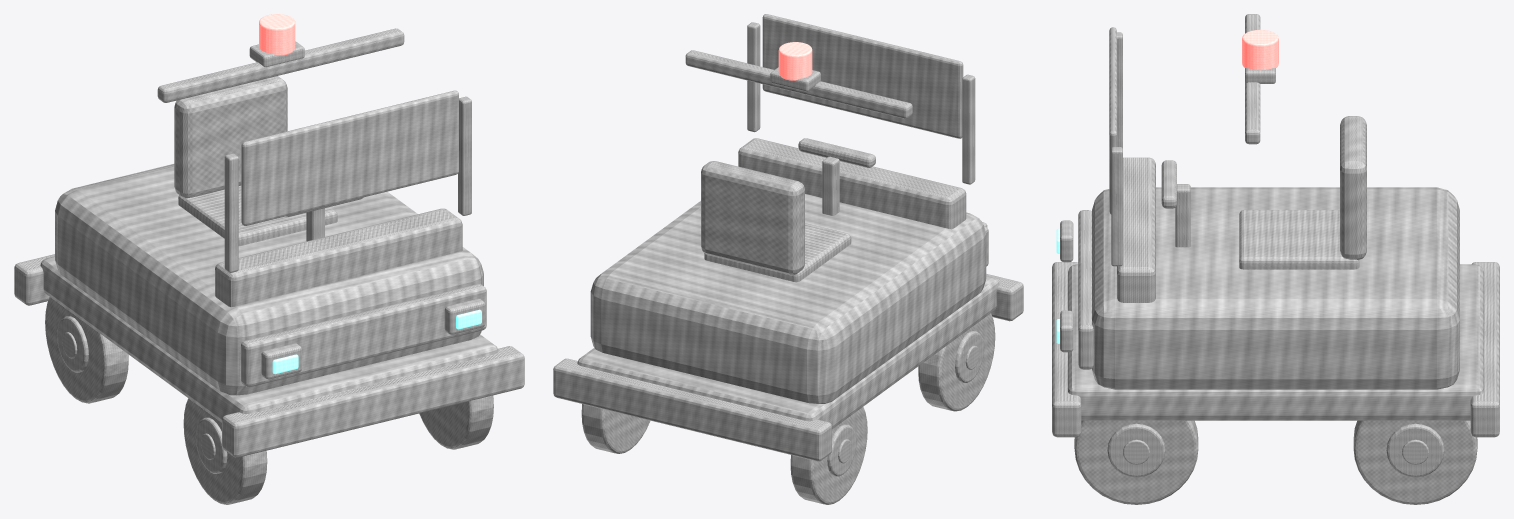
Rendered from factory_cart_variant_b.glb.
3 views of the same model, side by side, from view 1: azimuth 30°, elevation 25°; view 2: azimuth 150°, elevation 25°; view 3: azimuth 270°, elevation 25° (orthographic). The views are drawn at different scales.
Parts seen in each view (by area): view 1: Gold cart body, Folded windshield.001, Front bumper.001, Gold dashboard, Lower chassis.001, Gold front fascia, Driver seat back.001, Roof support crossbar.001, Grip wheel.005, Grip wheel.004, Driver seat base.001, Grip wheel.006 (+10 smaller); view 2: Gold cart body, Folded windshield.001, Rear bumper.001, Driver seat back.001, Lower chassis.001, Gold dashboard, Grip wheel.004, Roof support crossbar.001, Grip wheel.005, Grip wheel.007, Driver seat base.001, Windshield support.002 (+8 smaller); view 3: Gold cart body, Lower chassis.001, Grip wheel.006, Grip wheel.007, Driver seat base.001, Gold dashboard, Driver seat back.001, Rear bumper.001, Front bumper.001, Gold front fascia, Wheel hub.006, Wheel hub.007 (+11 smaller).
Part boxes in pixels (<box>): Gold cart body: <box>55,164,483,395</box>; Folded windshield.001: <box>241,90,458,225</box>; Front bumper.001: <box>222,346,524,457</box>; Gold dashboard: <box>215,208,462,306</box>; Lower chassis.001: <box>40,256,498,422</box>; Gold front fascia: <box>241,284,486,387</box>; Driver seat back.001: <box>174,76,287,198</box>; Roof support crossbar.001: <box>157,28,404,102</box>; Grip wheel.005: <box>45,297,128,403</box>; Grip wheel.004: <box>183,398,267,504</box>; Driver seat base.001: <box>178,185,337,246</box>; Grip wheel.006: <box>419,395,493,449</box>; Gold cart body: <box>590,194,986,403</box>; Folded windshield.001: <box>762,14,963,138</box>; Rear bumper.001: <box>553,358,831,461</box>; Driver seat back.001: <box>701,161,804,274</box>; Lower chassis.001: <box>577,275,999,428</box>; Gold dashboard: <box>738,138,966,229</box>; Grip wheel.004: <box>918,313,995,411</box>; Roof support crossbar.001: <box>685,50,912,118</box>; Grip wheel.005: <box>790,407,867,504</box>; Grip wheel.007: <box>581,404,650,453</box>; Driver seat base.001: <box>704,223,851,282</box>; Windshield support.002: <box>962,74,975,184</box>; Gold cart body: <box>1092,187,1459,389</box>; Lower chassis.001: <box>1068,264,1483,420</box>; Grip wheel.006: <box>1074,420,1198,504</box>; Grip wheel.007: <box>1353,420,1477,504</box>; Driver seat base.001: <box>1239,210,1359,269</box>; Gold dashboard: <box>1117,157,1155,302</box>; Driver seat back.001: <box>1340,116,1366,259</box>; Rear bumper.001: <box>1470,262,1499,437</box>; Front bumper.001: <box>1052,262,1081,437</box>; Gold front fascia: <box>1078,210,1093,369</box>; Wheel hub.006: <box>1107,423,1165,477</box>; Wheel hub.007: <box>1386,423,1444,477</box>.
Size of what is drawn, in the model's own units: 1.75 by 2.32 by 2.31.
Materials: 7 (7 with a texture image).
